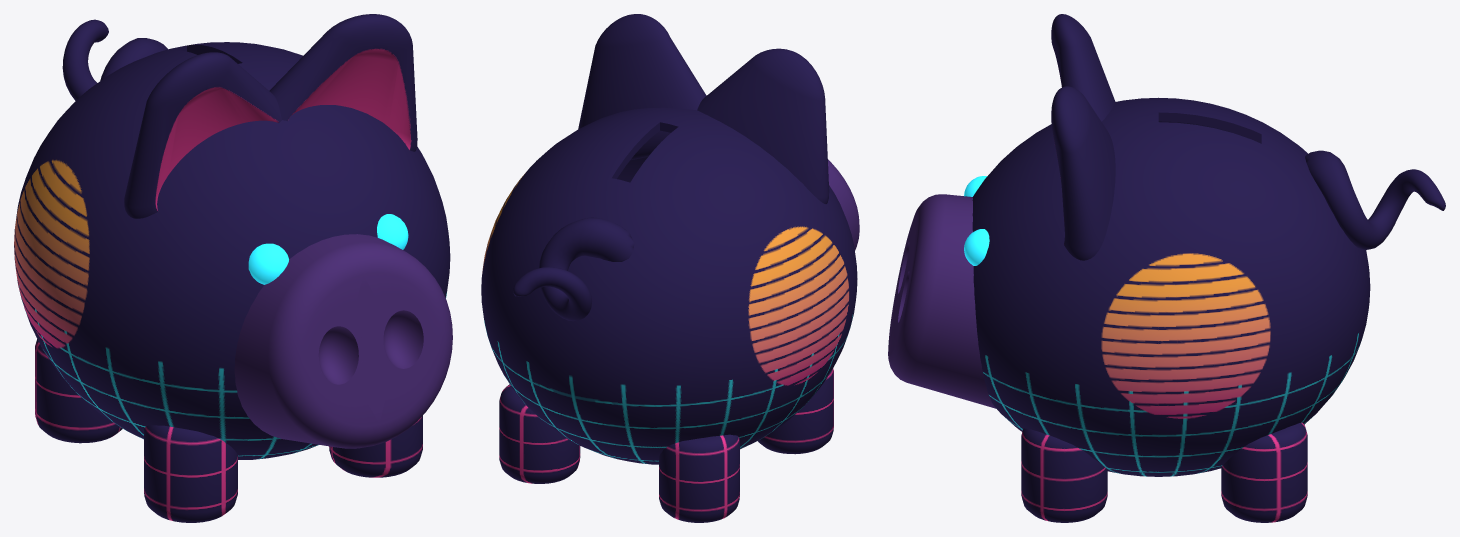
The model's file is synthwave-arcade-v1-complete.fbx.
The picture shows the model from 3 angles, left to right: view 1: azimuth 30°, elevation 25°; view 2: azimuth 150°, elevation 25°; view 3: azimuth 270°, elevation 25°; orthographic projection. The views are drawn at different scales.
Visible parts, largest first — view 1: Body, Snout, Ears, Legs, Tail, EyePreview; view 2: Body, Ears, Legs, Tail, Snout; view 3: Body, Snout, Legs, Ears, Tail, EyePreview.
Boxes of the visible parts, x1=… form: Body: x1=14, y1=42, x2=450, y2=459; Snout: x1=234, y1=234, x2=452, y2=448; Ears: x1=124, y1=14, x2=417, y2=218; Legs: x1=35, y1=339, x2=422, y2=522; Tail: x1=62, y1=19, x2=167, y2=100; EyePreview: x1=248, y1=214, x2=408, y2=284; Body: x1=481, y1=107, x2=857, y2=464; Ears: x1=578, y1=14, x2=829, y2=203; Legs: x1=499, y1=368, x2=833, y2=522; Tail: x1=513, y1=217, x2=634, y2=321; Snout: x1=828, y1=159, x2=859, y2=250; Body: x1=972, y1=97, x2=1370, y2=476; Snout: x1=888, y1=194, x2=996, y2=408; Legs: x1=1021, y1=422, x2=1307, y2=522; Ears: x1=1051, y1=14, x2=1115, y2=260; Tail: x1=1305, y1=150, x2=1445, y2=249; EyePreview: x1=964, y1=176, x2=989, y2=265.
Size of the model in its own units: 1200 by 1397 by 1708.
Materials: 3 (2 with a texture image).
